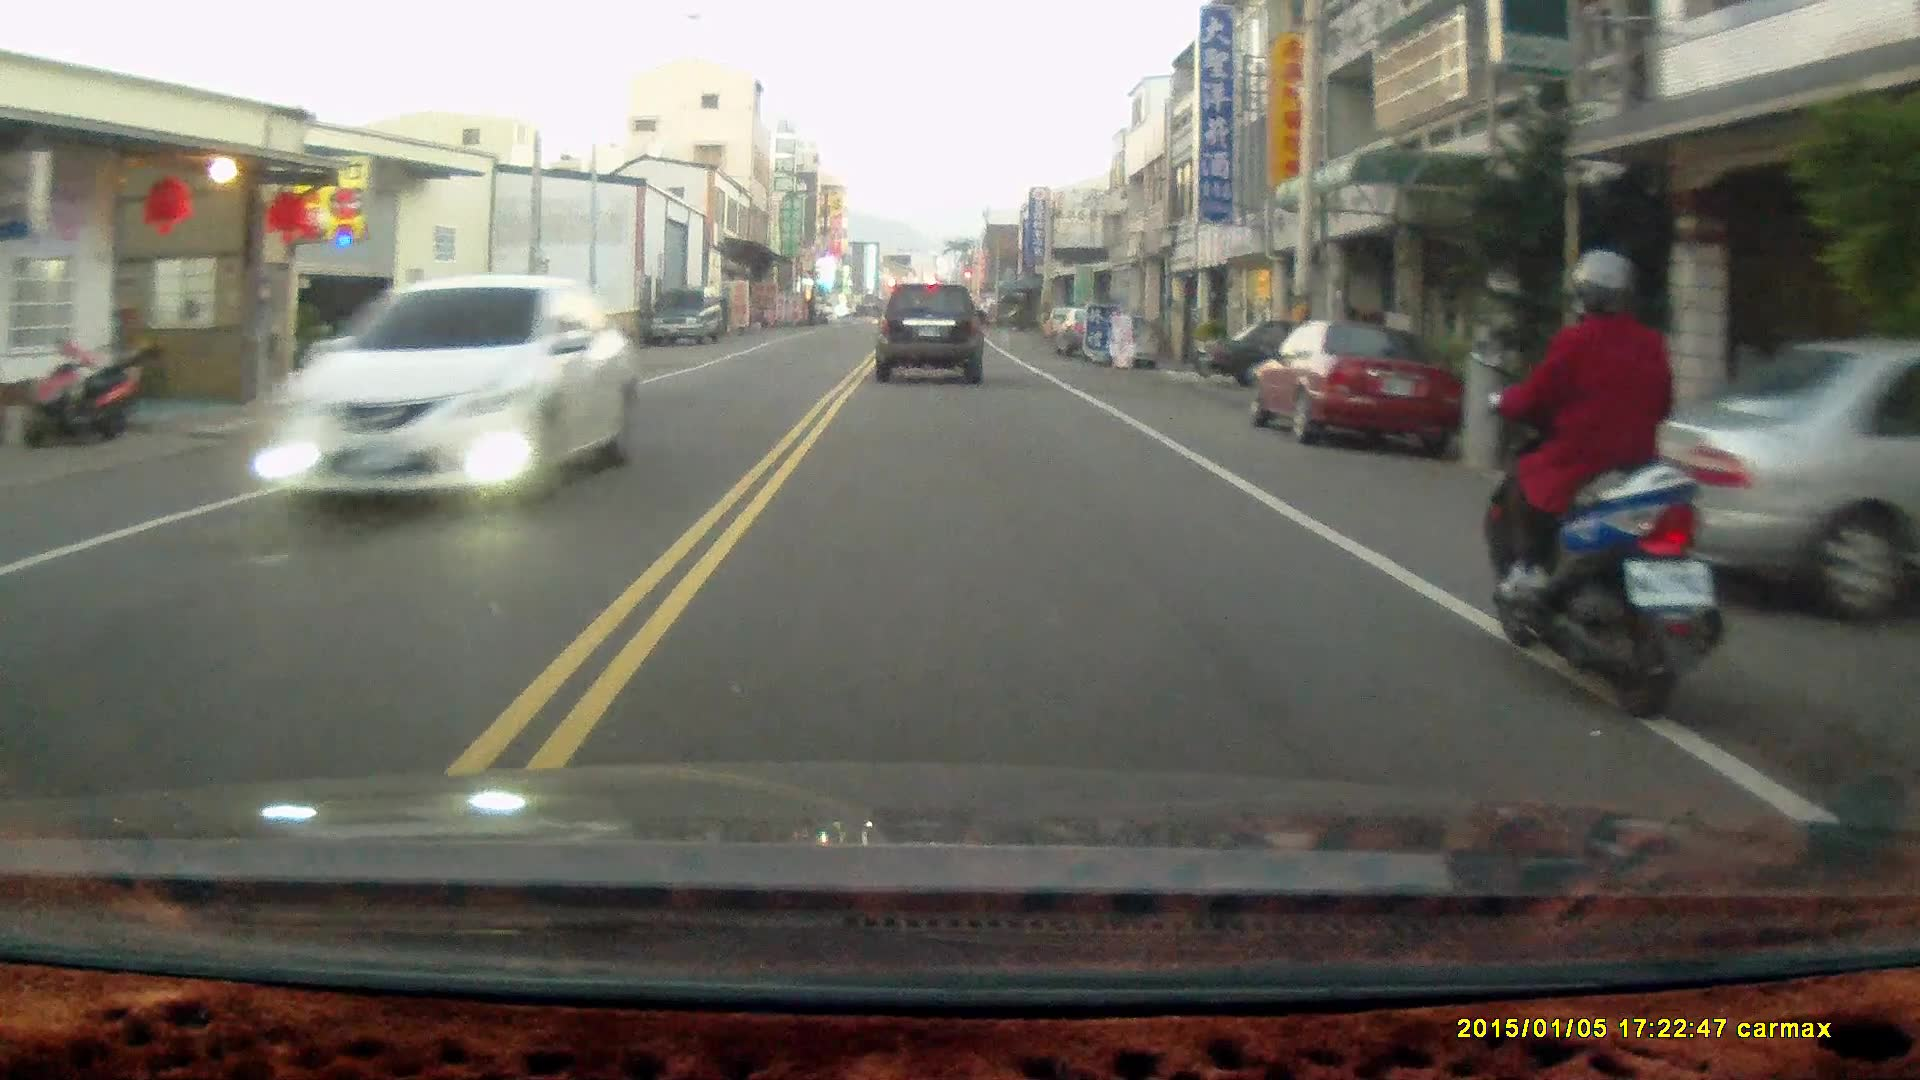rider: (1478, 242, 1734, 729)
vehicle: (1589, 339, 1920, 631), (251, 273, 642, 506), (1249, 311, 1466, 453), (1194, 317, 1398, 385), (877, 276, 988, 383), (654, 286, 726, 346)
